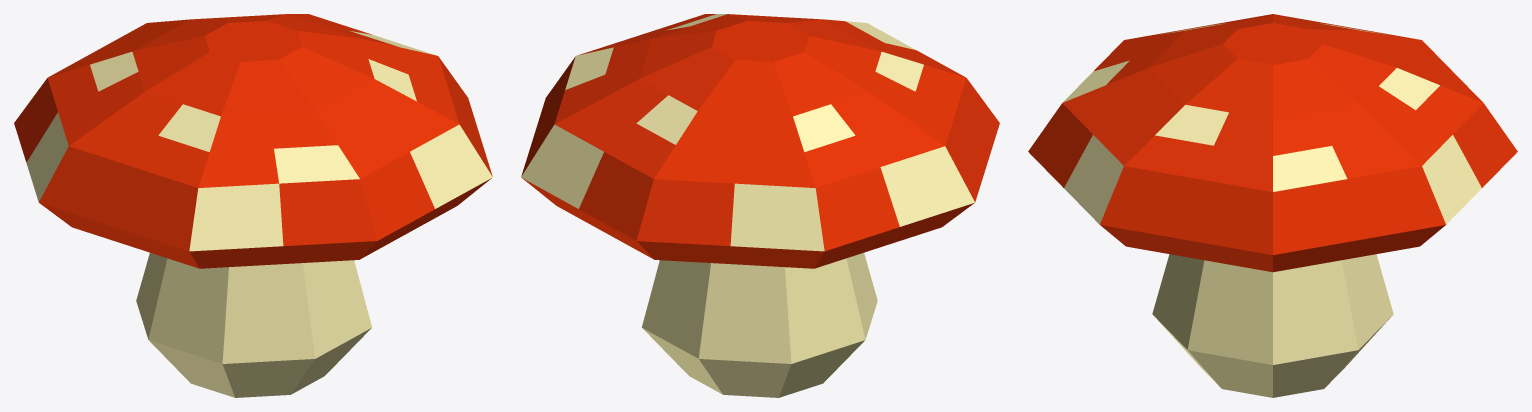
File: Hongo Rojo.fbx
3 views of the same model, side by side, from view 1: azimuth 30°, elevation 25°; view 2: azimuth 150°, elevation 25°; view 3: azimuth 270°, elevation 25° (orthographic).
Parts seen in each view (by area): view 1: Cylinder.023; view 2: Cylinder.023; view 3: Cylinder.023.
Part boxes in pixels (left/top/right/bottom): Cylinder.023: left=14, top=14, right=492, bottom=397; Cylinder.023: left=521, top=14, right=999, bottom=397; Cylinder.023: left=1028, top=14, right=1517, bottom=397.
Bounding box in the file's own units: 281 × 205 × 281.
